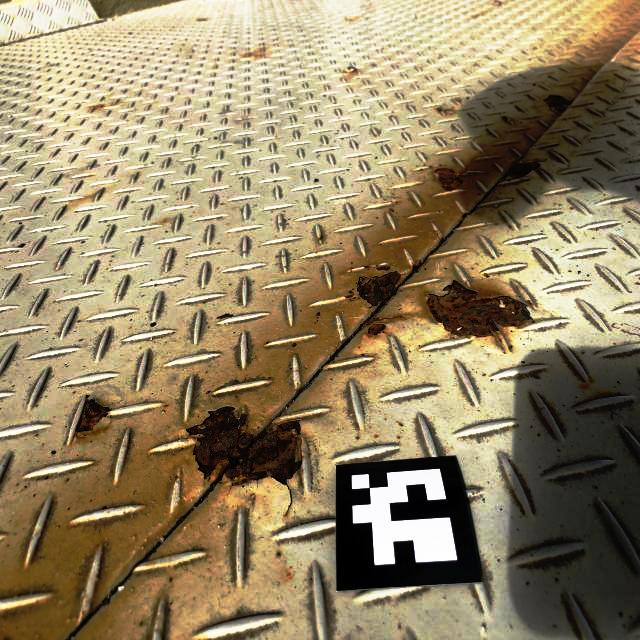Corrosion: (181, 405, 305, 491), (423, 277, 535, 343), (346, 264, 404, 309), (75, 393, 113, 435), (360, 314, 405, 339), (433, 163, 463, 194), (504, 159, 541, 179), (544, 94, 572, 113), (411, 264, 420, 277)
